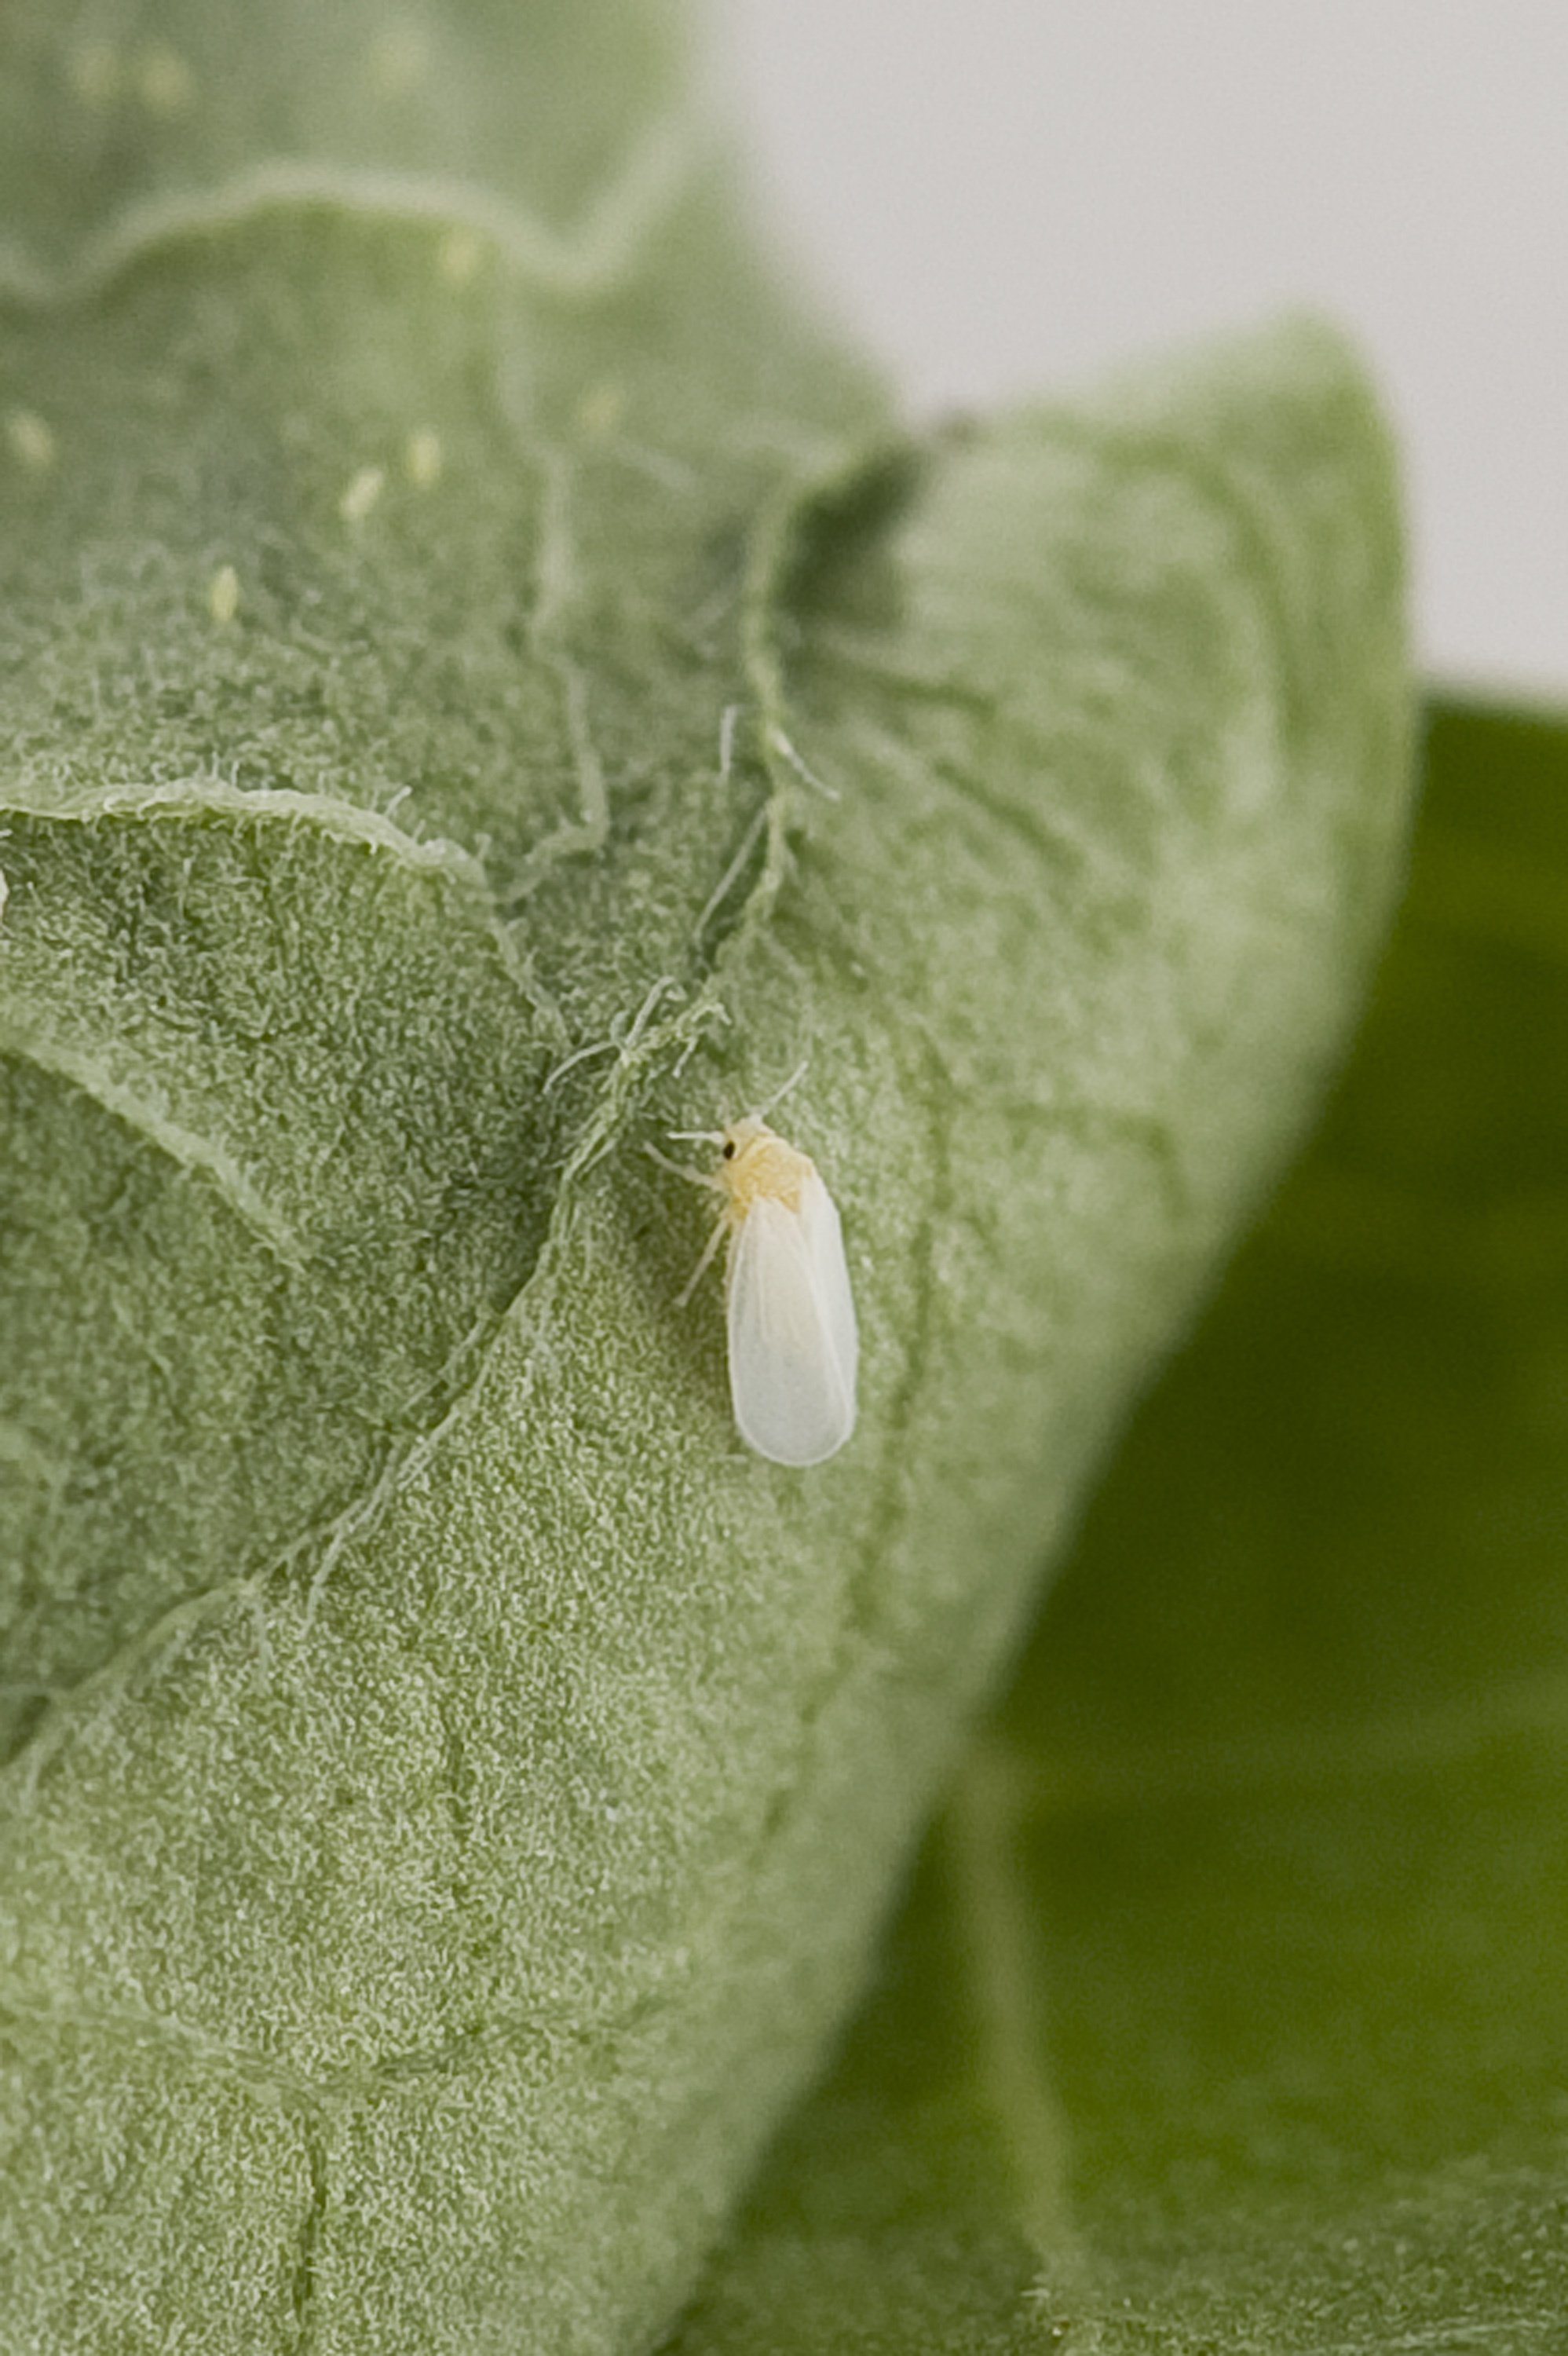Tobacco Whitefly: (609, 1024, 944, 1531)
